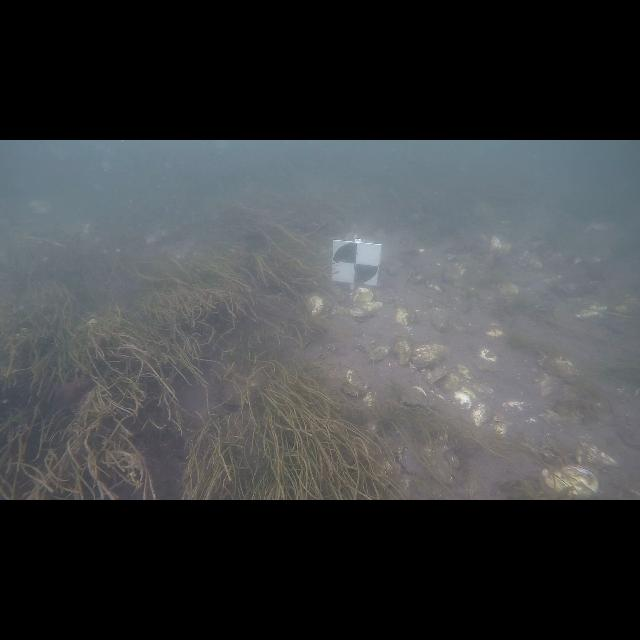Oyster-Closed: (541, 466, 599, 498), (412, 344, 449, 368), (346, 370, 368, 394), (475, 349, 498, 371), (395, 338, 412, 365), (440, 372, 460, 392), (351, 288, 372, 306), (471, 404, 486, 426), (454, 391, 472, 409), (368, 346, 390, 360), (490, 415, 506, 434), (308, 295, 324, 314), (428, 369, 448, 384), (396, 306, 409, 327), (502, 401, 525, 411), (362, 391, 375, 406)
Oyster-Open: (347, 300, 383, 323), (400, 384, 428, 411), (396, 441, 411, 474), (410, 308, 419, 326)
